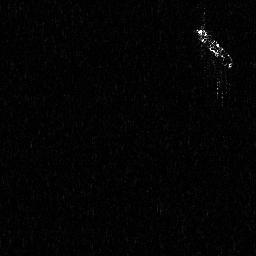ship: (192, 22, 239, 72)
